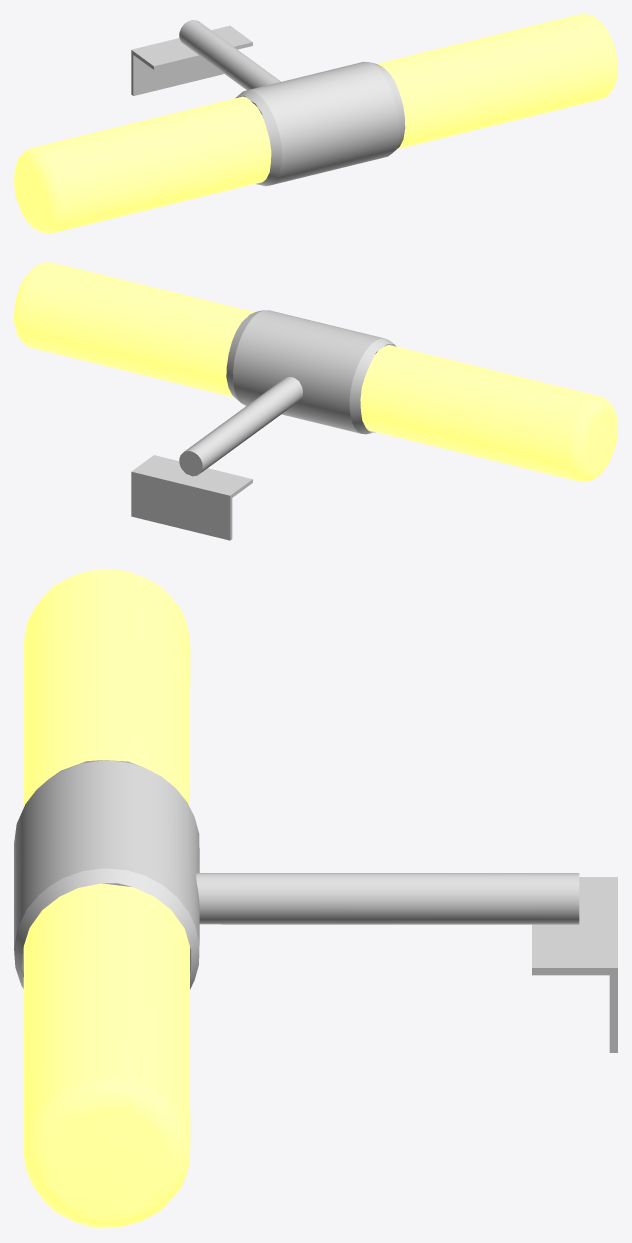
Rendered from Sanitary_Installation-Systems_Ceramica-Dolomite_LIGHT-GEMMA-2-EVA-G9-2X33W-230V.fbx.
3 views of the same model, one above another, from view 1: azimuth 30°, elevation 25°; view 2: azimuth 150°, elevation 25°; view 3: azimuth 270°, elevation 25° (orthographic). The views are drawn at different scales.
Visible parts, largest first — view 1: Mesh_5_ccc4ade4_9146_491d_b604_d0efa2f09c5d, Mesh_7_d3b7a69a_089d_4f8d_996d_4432c19e30f6, Mesh_3_88c19242_81e0_4484_b079_5815a26f9a85, Mesh_1_d1896164_ab9f_4c56_9e8f_827bc3f959da; view 2: Mesh_5_ccc4ade4_9146_491d_b604_d0efa2f09c5d, Mesh_7_d3b7a69a_089d_4f8d_996d_4432c19e30f6, Mesh_3_88c19242_81e0_4484_b079_5815a26f9a85, Mesh_1_d1896164_ab9f_4c56_9e8f_827bc3f959da; view 3: Mesh_7_d3b7a69a_089d_4f8d_996d_4432c19e30f6, Mesh_3_88c19242_81e0_4484_b079_5815a26f9a85, Mesh_5_ccc4ade4_9146_491d_b604_d0efa2f09c5d, Mesh_1_d1896164_ab9f_4c56_9e8f_827bc3f959da.
Boxes of the visible parts, x1,y1,x2,y2 form: Mesh_5_ccc4ade4_9146_491d_b604_d0efa2f09c5d: (14, 96, 271, 233); Mesh_7_d3b7a69a_089d_4f8d_996d_4432c19e30f6: (377, 14, 617, 149); Mesh_3_88c19242_81e0_4484_b079_5815a26f9a85: (179, 20, 405, 186); Mesh_1_d1896164_ab9f_4c56_9e8f_827bc3f959da: (131, 25, 252, 95); Mesh_5_ccc4ade4_9146_491d_b604_d0efa2f09c5d: (360, 345, 617, 481); Mesh_7_d3b7a69a_089d_4f8d_996d_4432c19e30f6: (14, 262, 254, 397); Mesh_3_88c19242_81e0_4484_b079_5815a26f9a85: (179, 310, 396, 476); Mesh_1_d1896164_ab9f_4c56_9e8f_827bc3f959da: (131, 455, 252, 540); Mesh_7_d3b7a69a_089d_4f8d_996d_4432c19e30f6: (23, 883, 190, 1228); Mesh_3_88c19242_81e0_4484_b079_5815a26f9a85: (14, 760, 579, 989); Mesh_5_ccc4ade4_9146_491d_b604_d0efa2f09c5d: (23, 569, 190, 807); Mesh_1_d1896164_ab9f_4c56_9e8f_827bc3f959da: (532, 877, 617, 1052).
Bounding box in the file's own units: 225 × 109 × 38.42.
